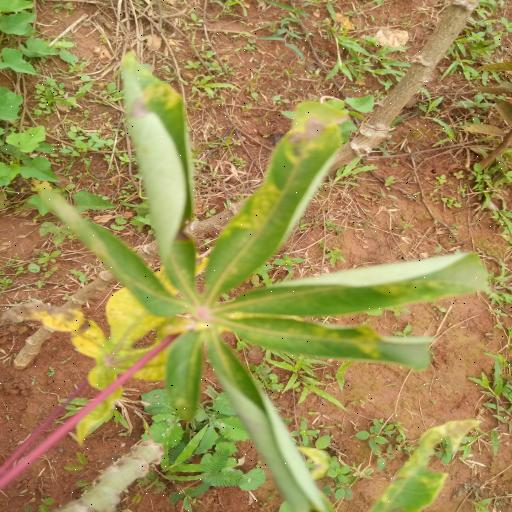Cassava_Mosaic: (26, 42, 489, 512)
